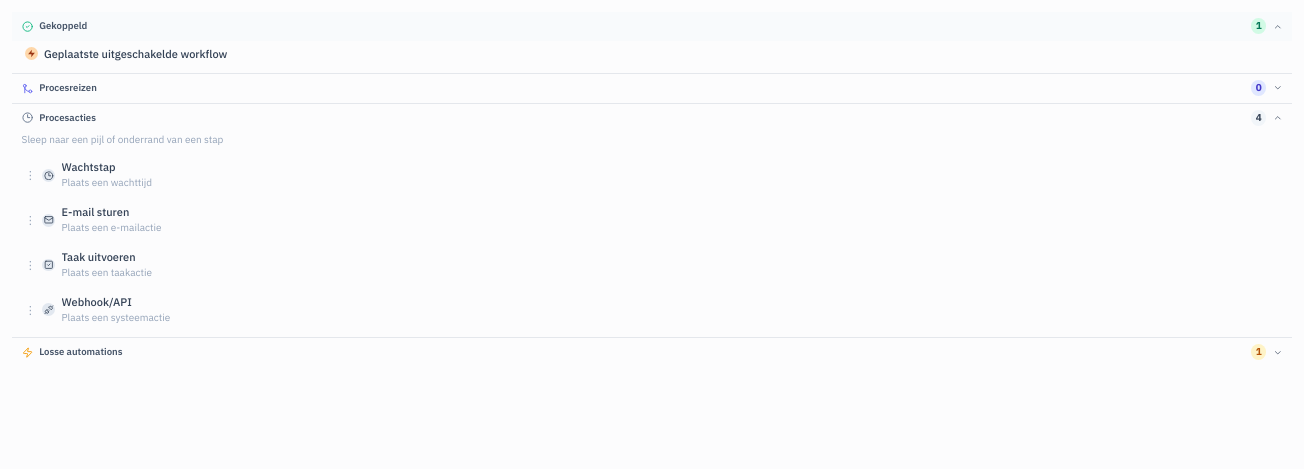
Scenario: UnassignedPanel automation search › shows only active workflows in the loose automations list
The image size is (1304, 469).
Click the button "Losse automations 1": click(81, 351) left=12, top=338, right=1292, bottom=367
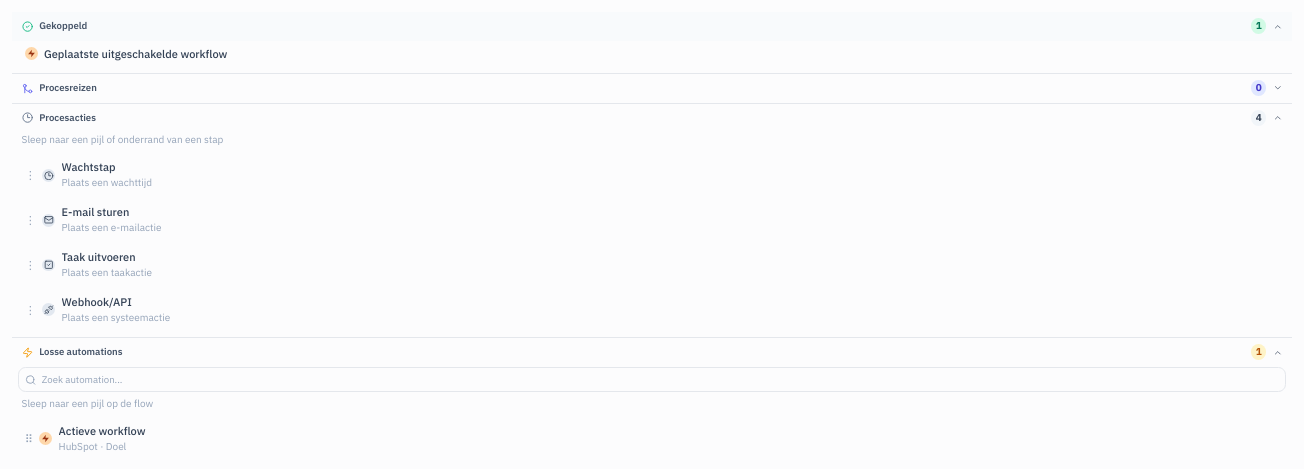
Expected: the text "Geplaatste uitgeschakelde workflow" is shown, left=44, top=47, right=227, bottom=61
Now the text "Actieve workflow" is shown, box left=59, top=424, right=146, bottom=438
